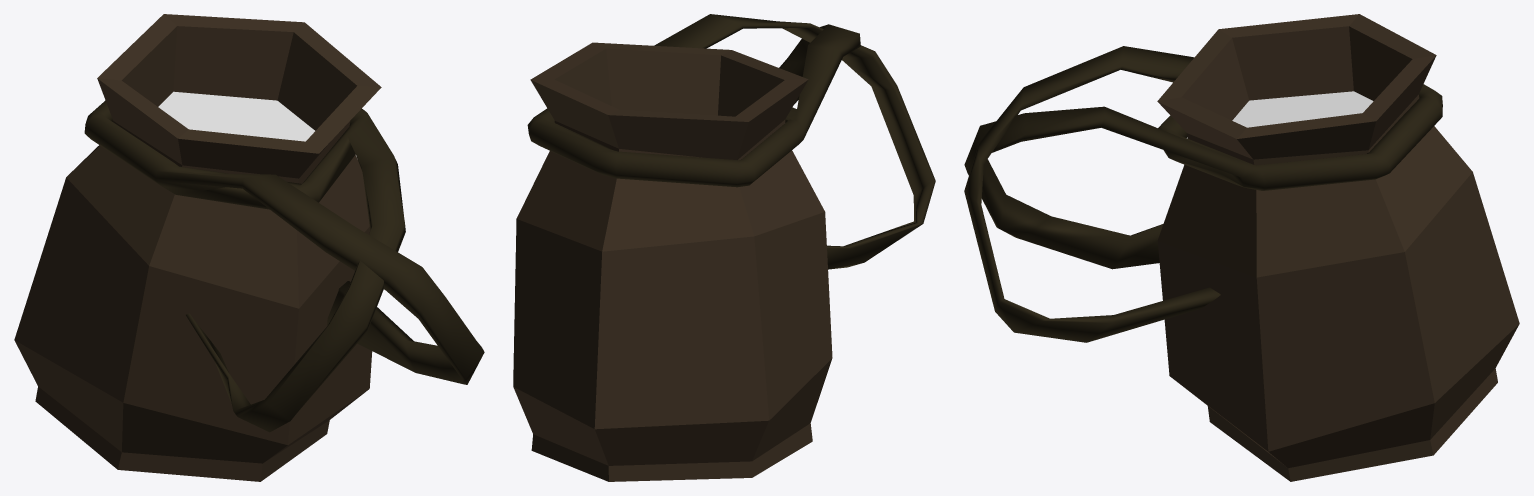
File: jar_on_spine.fbx
3 views of the same model, side by side, from view 1: azimuth 30°, elevation 25°; view 2: azimuth 150°, elevation 25°; view 3: azimuth 270°, elevation 25° (orthographic). The views are drawn at different scales.
Visible parts, largest first — view 1: jar-1-2, jar-1-1; view 2: jar-1-2, jar-1-1; view 3: jar-1-2, jar-1-1.
Boxes of the visible parts, bbox=[...] form: jar-1-2: bbox=[14, 14, 381, 481]; jar-1-1: bbox=[84, 100, 484, 432]; jar-1-2: bbox=[513, 42, 832, 481]; jar-1-1: bbox=[527, 14, 935, 269]; jar-1-2: bbox=[1157, 14, 1519, 481]; jar-1-1: bbox=[964, 46, 1442, 342].
Size of the model in its own units: 45.64 by 59.52 by 78.13.
